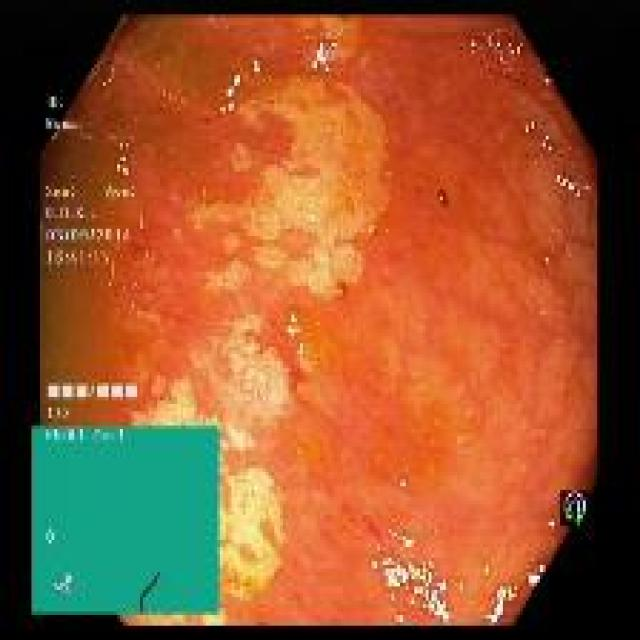ulcerative-colitis: (40, 17, 598, 624)
